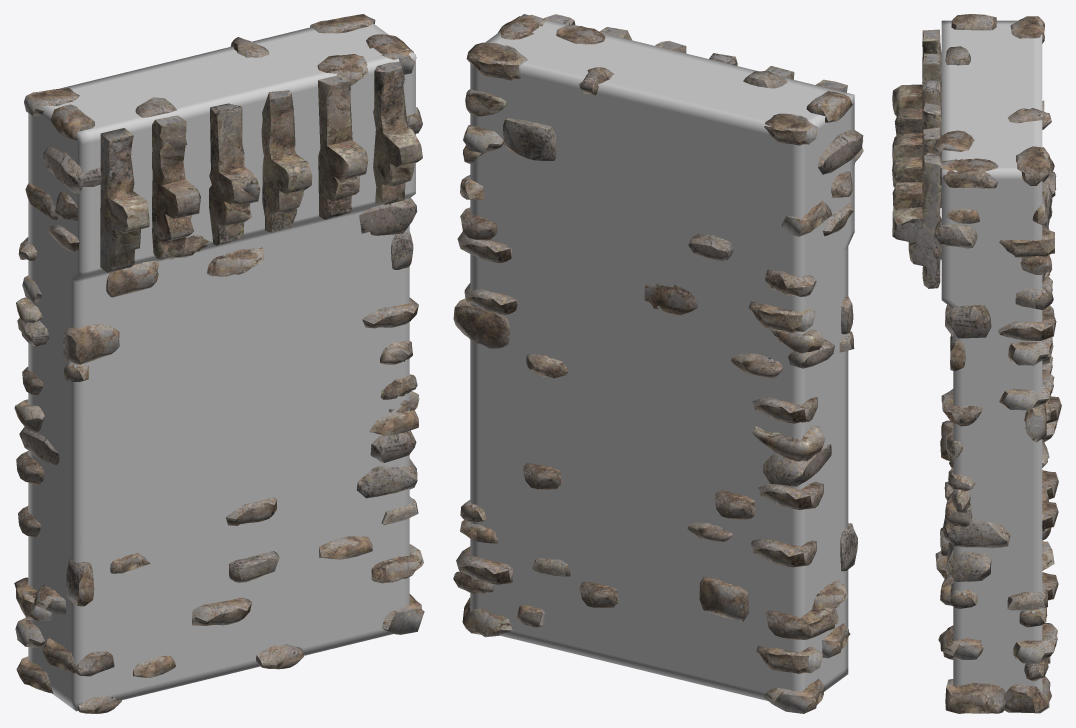
File: SM_Wall08.FBX
The picture shows the model from 3 angles, left to right: view 1: azimuth 30°, elevation 25°; view 2: azimuth 150°, elevation 25°; view 3: azimuth 270°, elevation 25°; orthographic projection. The views are drawn at different scales.
Parts seen in each view (by area): view 1: SM_Wall08; view 2: SM_Wall08; view 3: SM_Wall08.
Boxes of the visible parts, left/top/right/bottom form: SM_Wall08: left=14, top=14, right=424, bottom=713; SM_Wall08: left=453, top=14, right=863, bottom=713; SM_Wall08: left=892, top=14, right=1061, bottom=713.
Size of the model in its own units: 673 by 287 by 1032.
